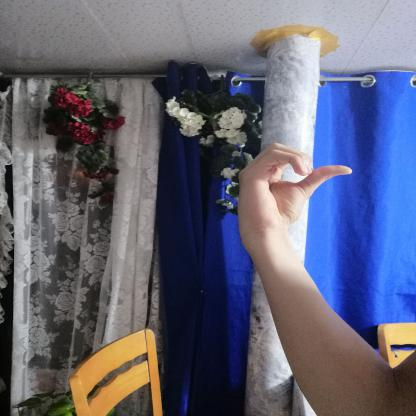WAW: (227, 135, 363, 259)
